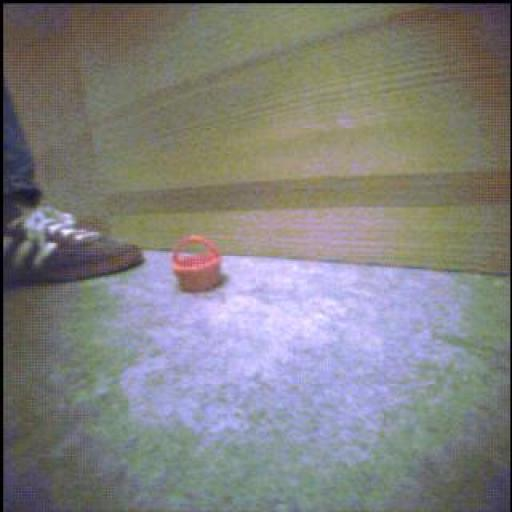Bucket: (168, 231, 225, 297)
